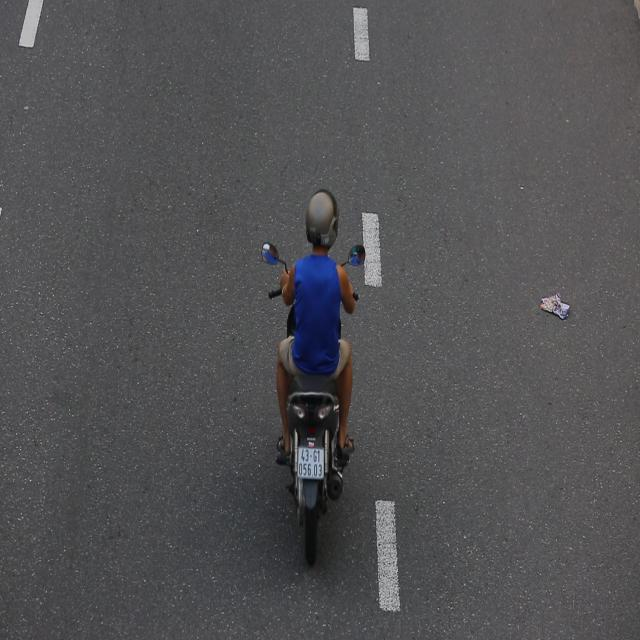motorbike: (246, 170, 371, 571)
